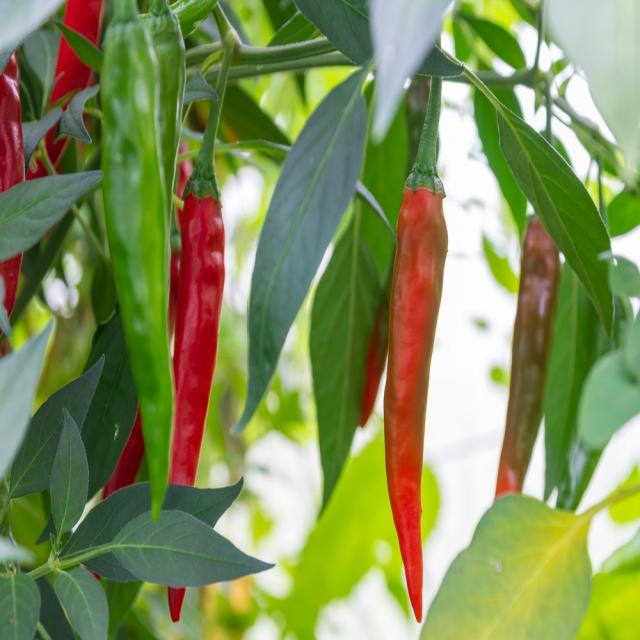Half-Ripe: (495, 217, 560, 499)
Ripe: (384, 187, 448, 619), (170, 193, 225, 484), (0, 54, 25, 339)
Unripe: (101, 0, 172, 518), (141, 0, 185, 213)
